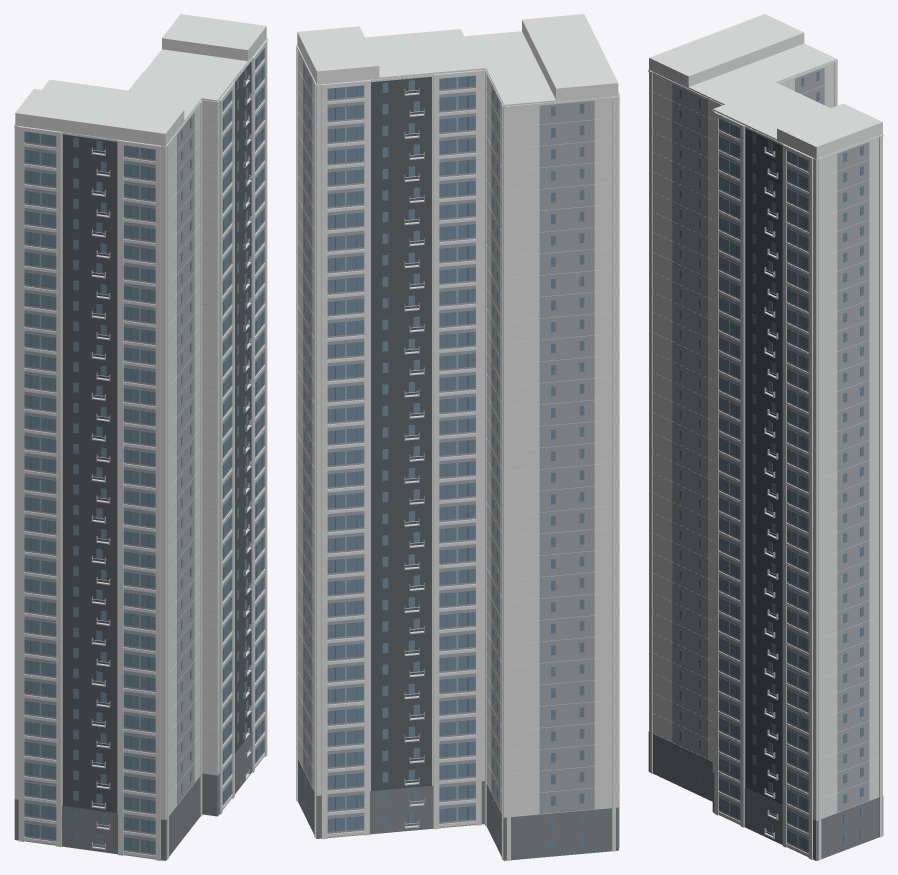
File: bespoke-godeok-gracium-101.glb
The picture shows the model from 3 angles, left to right: view 1: azimuth 30°, elevation 25°; view 2: azimuth 150°, elevation 25°; view 3: azimuth 270°, elevation 25°; orthographic projection. The views are drawn at different scales.
Parts seen in each view (by area): view 1: Gracium101_editable_Gracium101_broad_white_facade_frames002, Gracium101_editable_Gracium101_broad_charcoal_solid_service_, Gracium101_editable_Gracium101_turquoise_balcony_glazing002, Gracium101_editable_Gracium101_light_grey_solid_wall002, Gracium101_editable_Gracium101_muted_ground_wall002; view 2: Gracium101_editable_Gracium101_broad_white_facade_frames002, Gracium101_editable_Gracium101_light_grey_solid_wall002, Gracium101_editable_Gracium101_turquoise_balcony_glazing002, Gracium101_editable_Gracium101_broad_charcoal_solid_service_, Gracium101_editable_Gracium101_muted_ground_wall002; view 3: Gracium101_editable_Gracium101_broad_white_facade_frames002, Gracium101_editable_Gracium101_light_grey_solid_wall002, Gracium101_editable_Gracium101_turquoise_balcony_glazing002, Gracium101_editable_Gracium101_broad_charcoal_solid_service_, Gracium101_editable_Gracium101_muted_ground_wall002.
Part boxes in pixels (x1,y1,x2,y2): Gracium101_editable_Gracium101_broad_white_facade_frames002: (14, 14, 267, 860); Gracium101_editable_Gracium101_broad_charcoal_solid_service_: (30, 51, 262, 852); Gracium101_editable_Gracium101_turquoise_balcony_glazing002: (24, 48, 264, 853); Gracium101_editable_Gracium101_light_grey_solid_wall002: (24, 42, 264, 859); Gracium101_editable_Gracium101_muted_ground_wall002: (14, 731, 252, 860); Gracium101_editable_Gracium101_broad_white_facade_frames002: (296, 14, 619, 860); Gracium101_editable_Gracium101_light_grey_solid_wall002: (303, 61, 594, 837); Gracium101_editable_Gracium101_turquoise_balcony_glazing002: (304, 65, 584, 848); Gracium101_editable_Gracium101_broad_charcoal_solid_service_: (335, 74, 468, 831); Gracium101_editable_Gracium101_muted_ground_wall002: (298, 759, 618, 860); Gracium101_editable_Gracium101_broad_white_facade_frames002: (648, 14, 883, 860); Gracium101_editable_Gracium101_light_grey_solid_wall002: (672, 67, 869, 857); Gracium101_editable_Gracium101_turquoise_balcony_glazing002: (679, 71, 863, 851); Gracium101_editable_Gracium101_broad_charcoal_solid_service_: (723, 120, 804, 849); Gracium101_editable_Gracium101_muted_ground_wall002: (648, 731, 883, 860).
Bounding box in the file's own units: 42.43 × 106 × 31.54.
